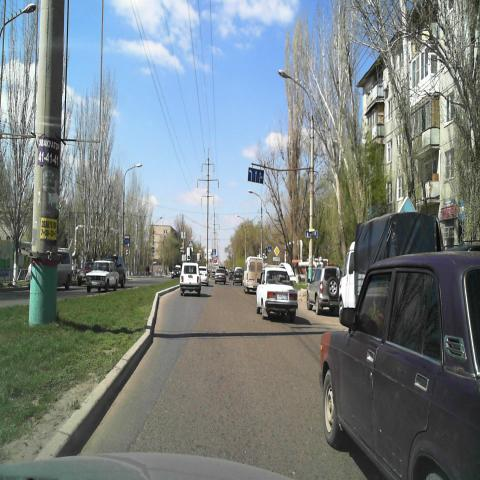6_15_1: (306, 229, 318, 238)
